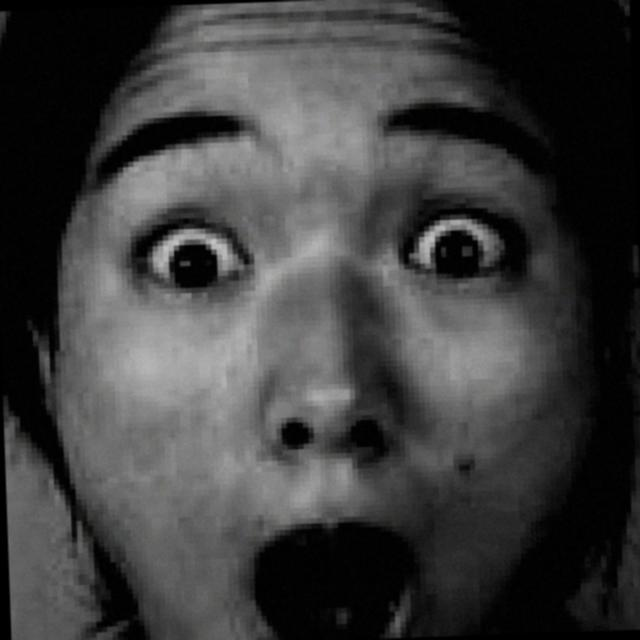surprise: (38, 31, 608, 640)
